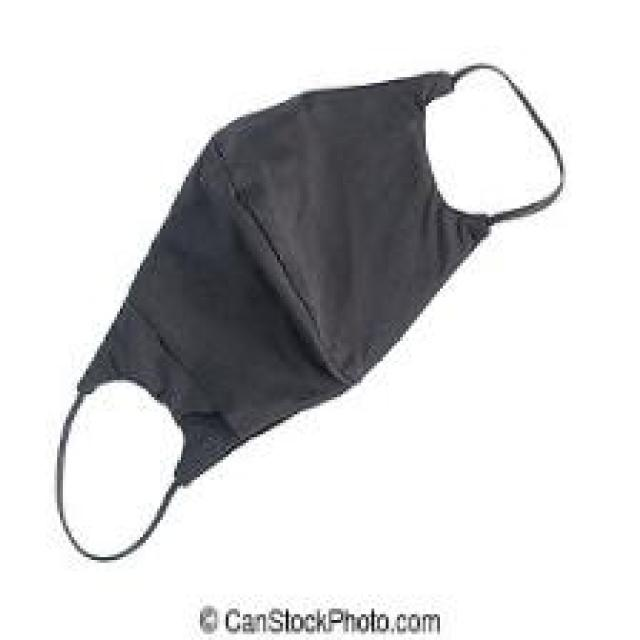Mask: (67, 78, 552, 545)
